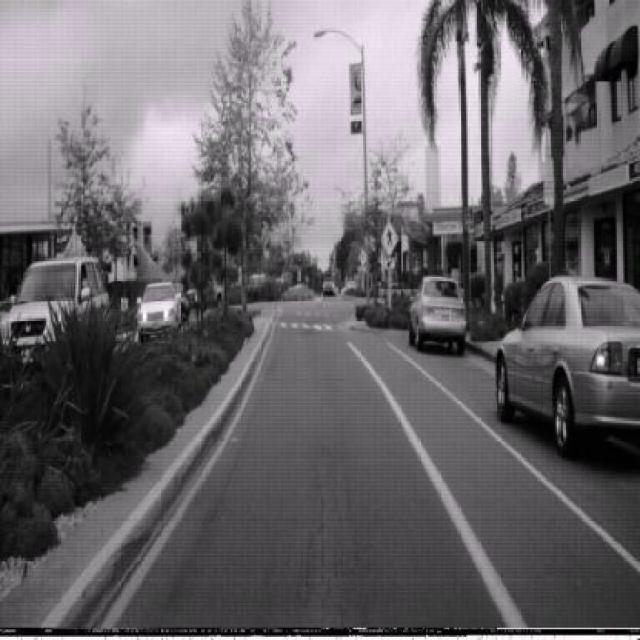pedestrianCrossing: (380, 217, 400, 256)
